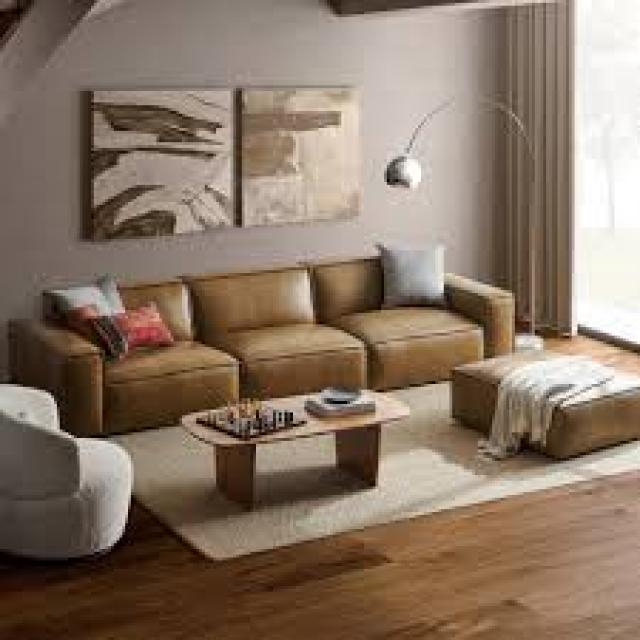Chair: (1, 386, 140, 566)
Lamp: (360, 67, 566, 350)
Sofa: (3, 254, 499, 406)
Table: (172, 393, 414, 506)
